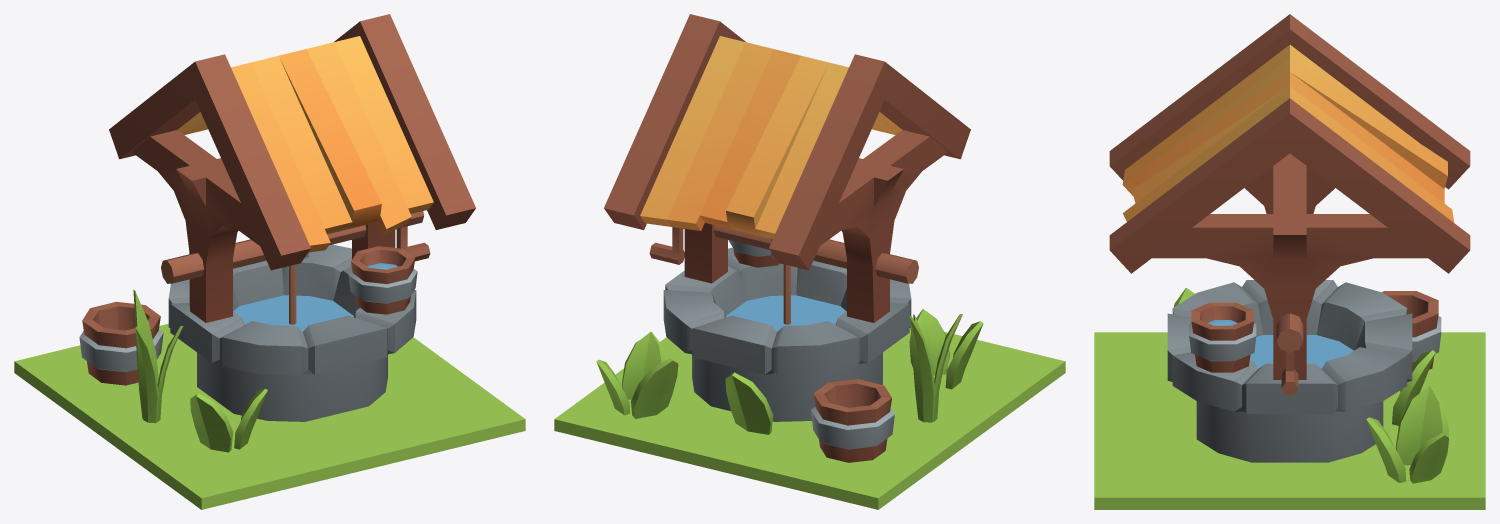
File: well.glb
3 renders of one model, left to right at view 1: azimuth 30°, elevation 25°; view 2: azimuth 150°, elevation 25°; view 3: azimuth 270°, elevation 25°, orthographic. The views are drawn at different scales.
Visible parts, largest first — view 1: Well; view 2: Well; view 3: Well.
Boxes of the visible parts, left/top/right/bottom form: Well: left=14, top=14, right=525, bottom=509; Well: left=554, top=14, right=1065, bottom=509; Well: left=1094, top=14, right=1485, bottom=509.
Size of the model in its own units: 0.29 by 0.3067 by 0.29.
Materials: 3 (3 with a texture image).
